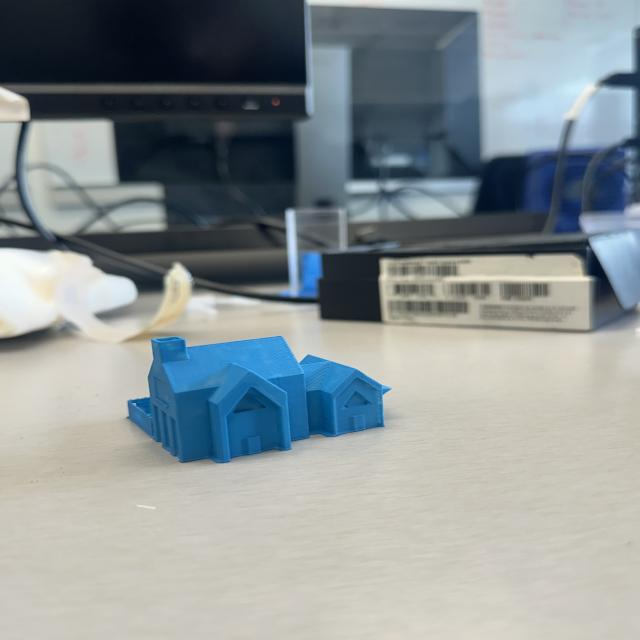house: (128, 335, 390, 465)
